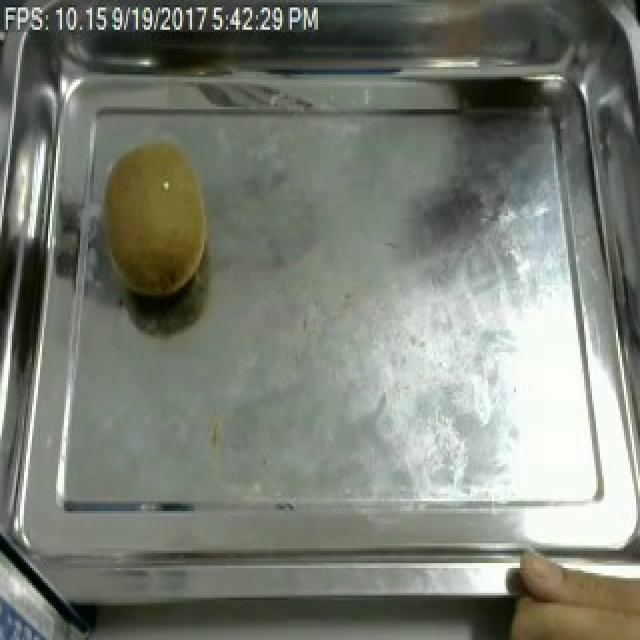Fruit: (84, 132, 220, 310)
